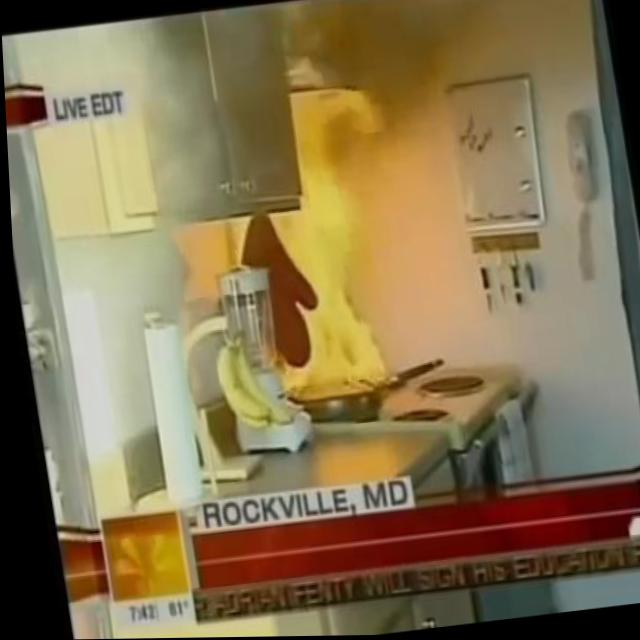fire: (231, 201, 392, 406), (287, 82, 404, 213)
